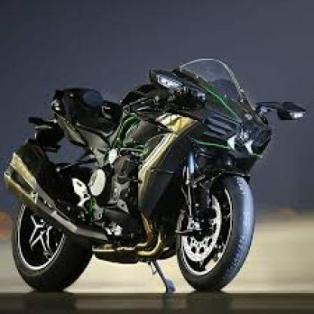Motocicleta: (1, 59, 312, 296)
